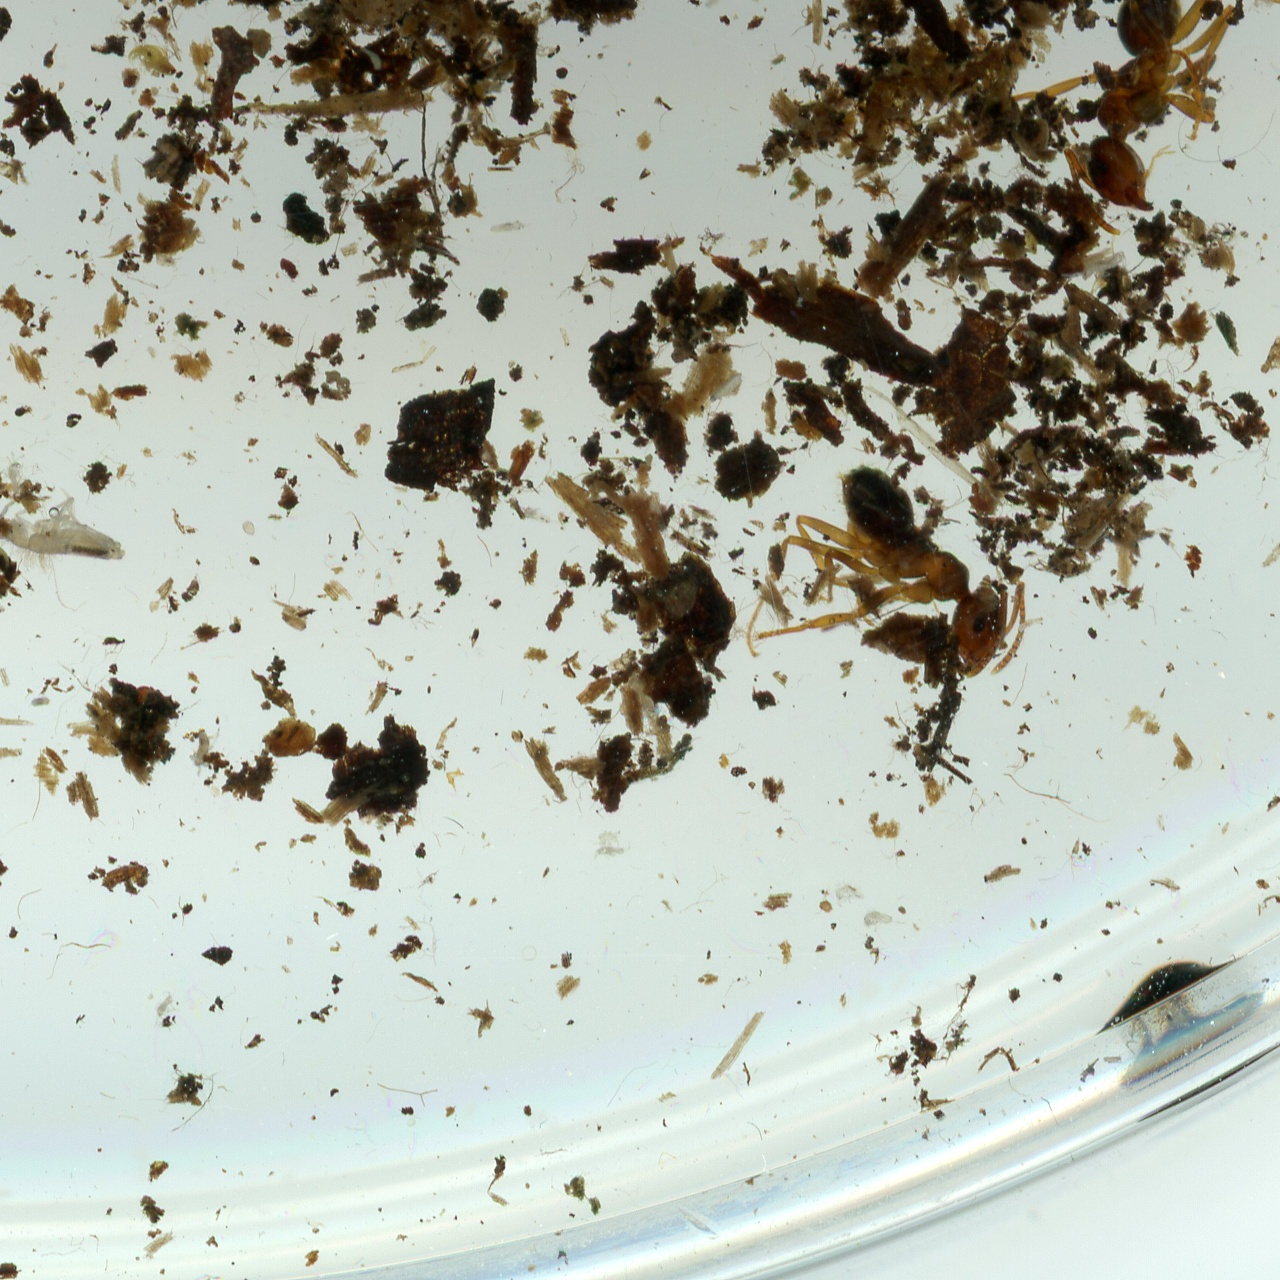arthropod: (701, 431, 1060, 790), (985, 0, 1280, 285), (0, 493, 132, 578), (1056, 240, 1138, 307), (698, 366, 751, 415), (186, 728, 224, 778), (516, 499, 565, 532), (146, 986, 184, 1026), (2, 449, 30, 496), (860, 908, 908, 934), (830, 880, 869, 910), (591, 839, 632, 862), (487, 219, 535, 234), (593, 829, 621, 847), (105, 0, 139, 11)
